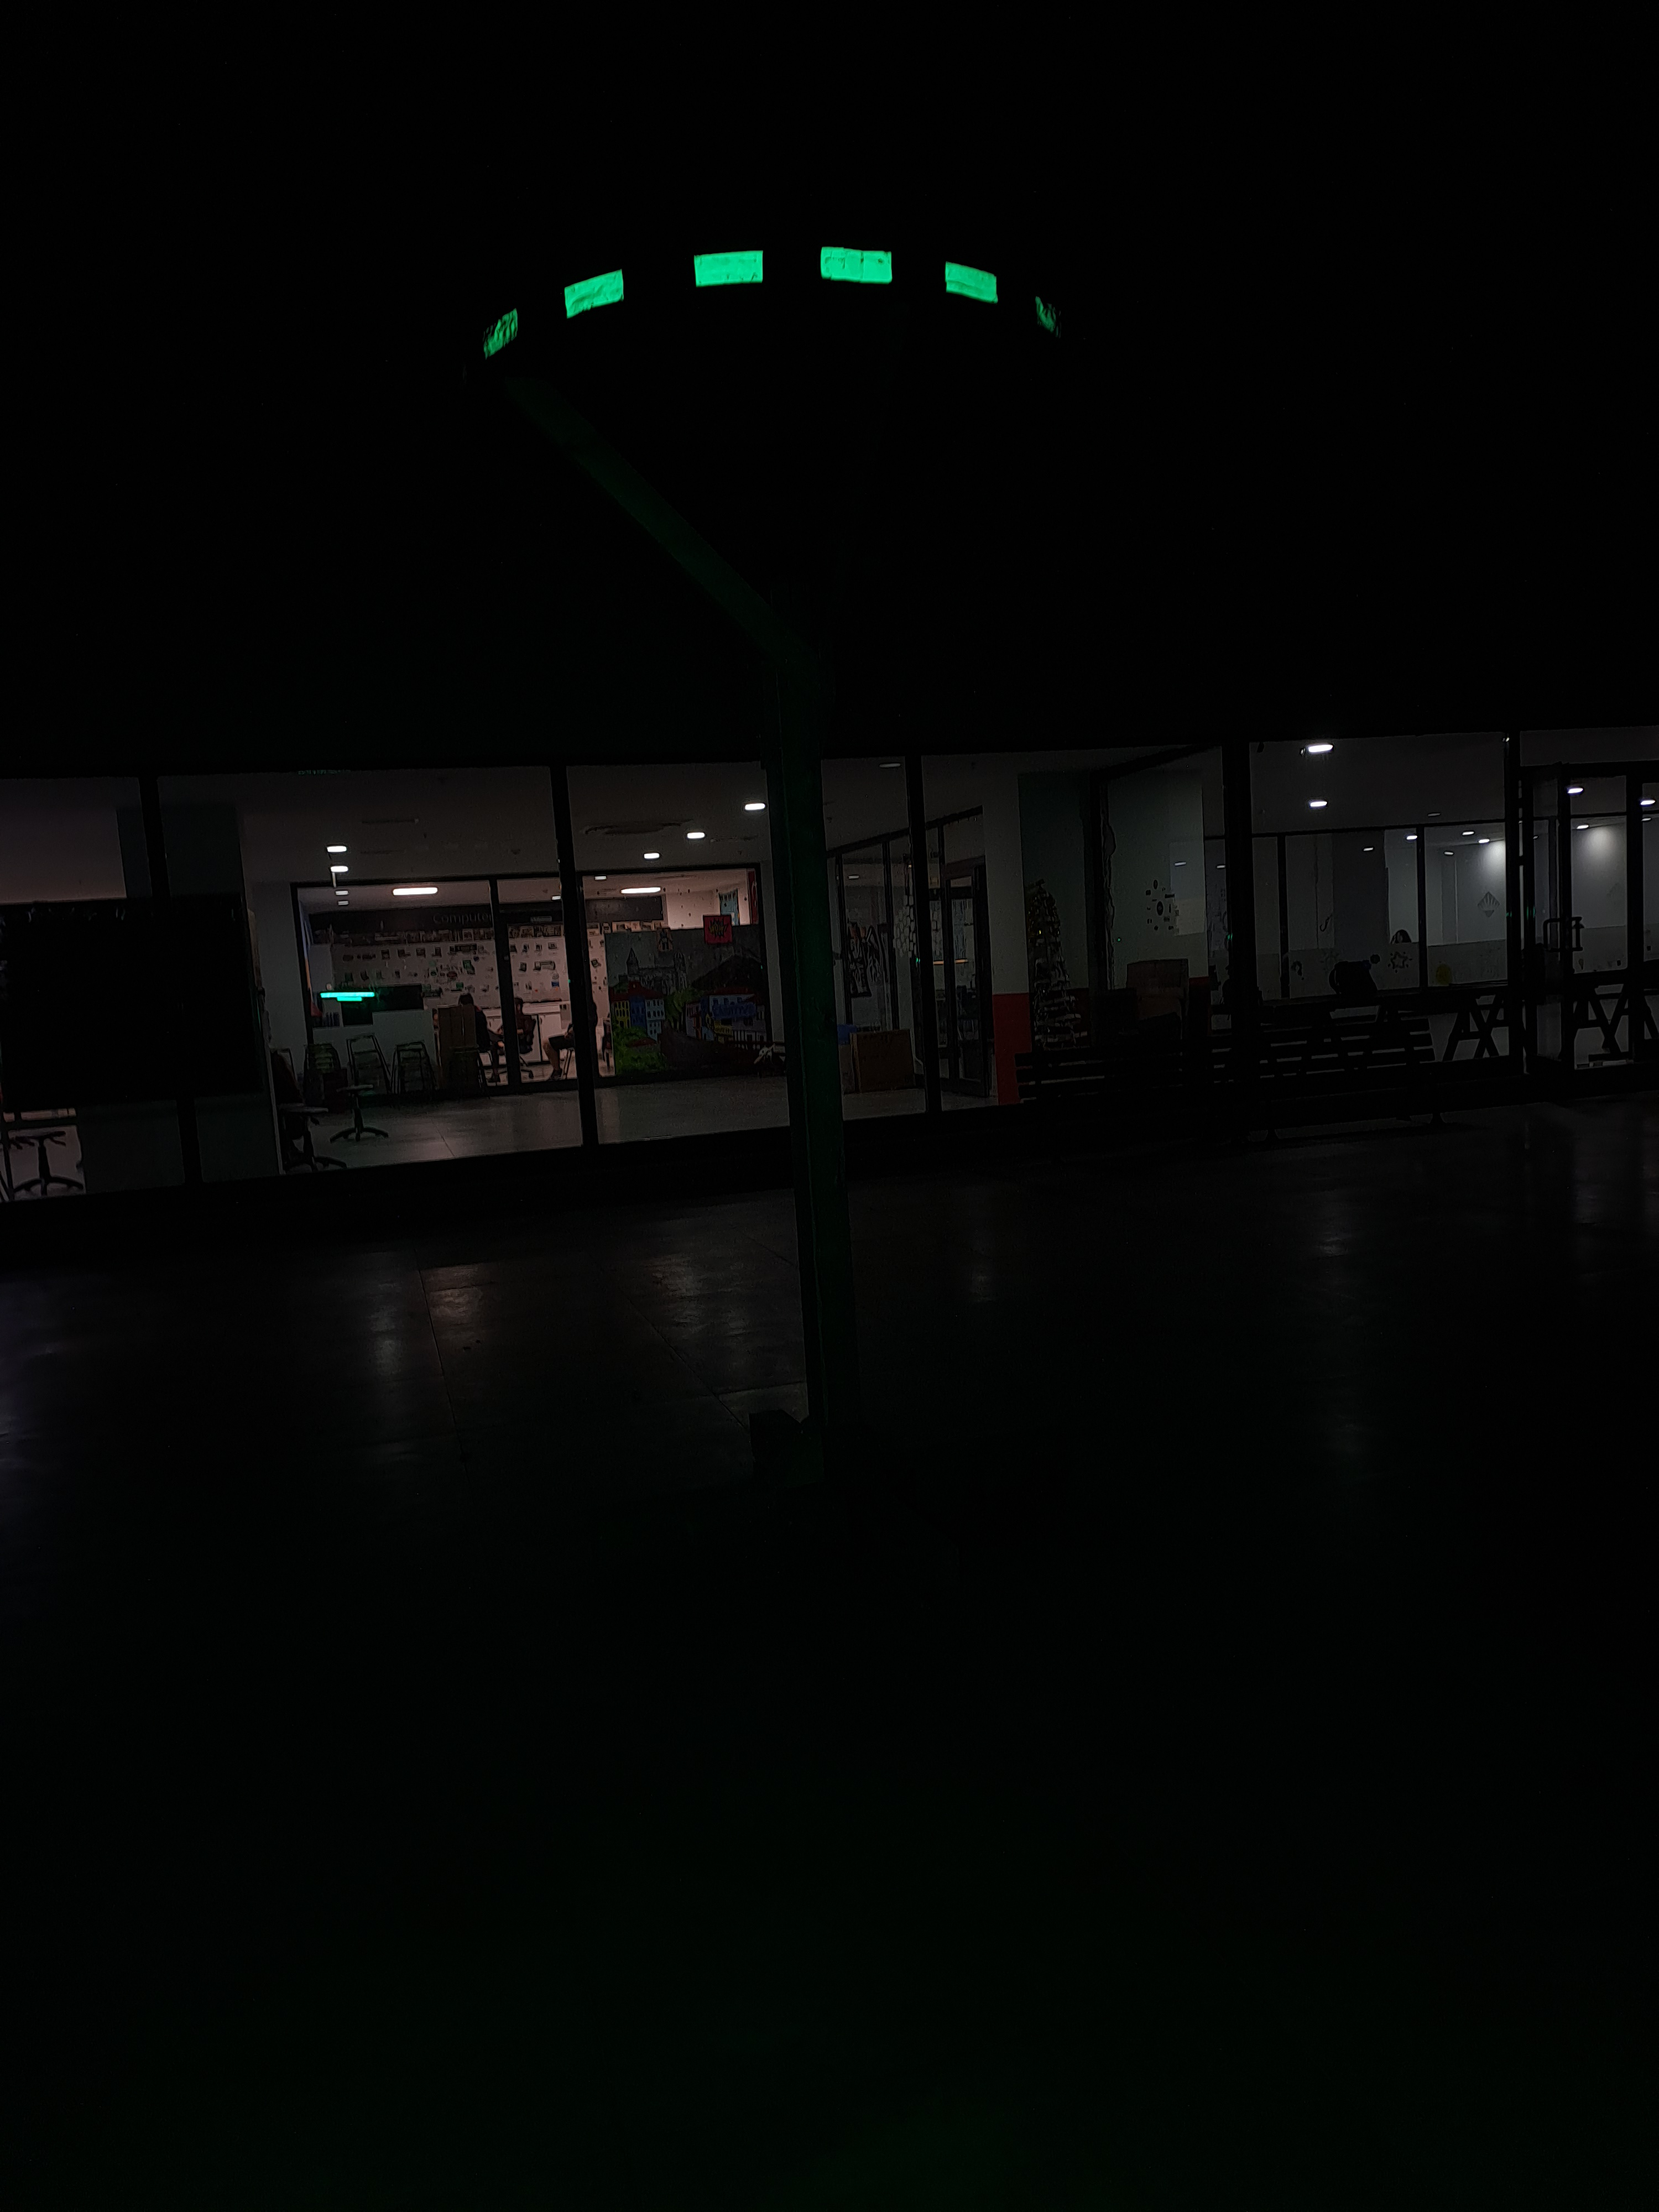hoop: (465, 239, 1070, 364)
